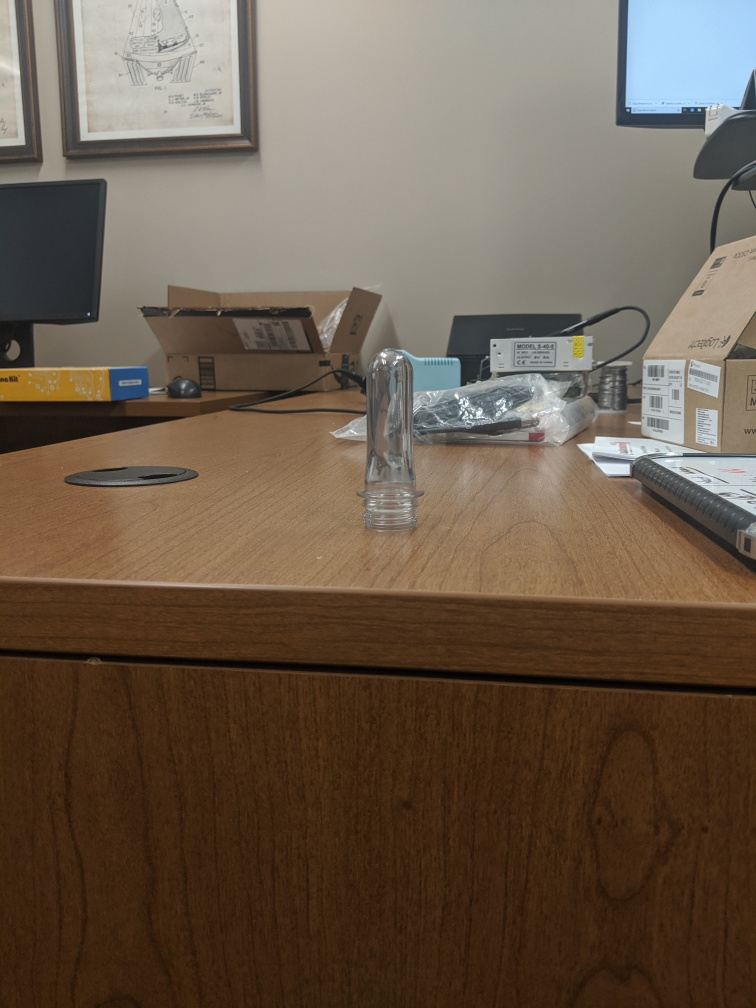preform: (350, 344, 432, 534)
